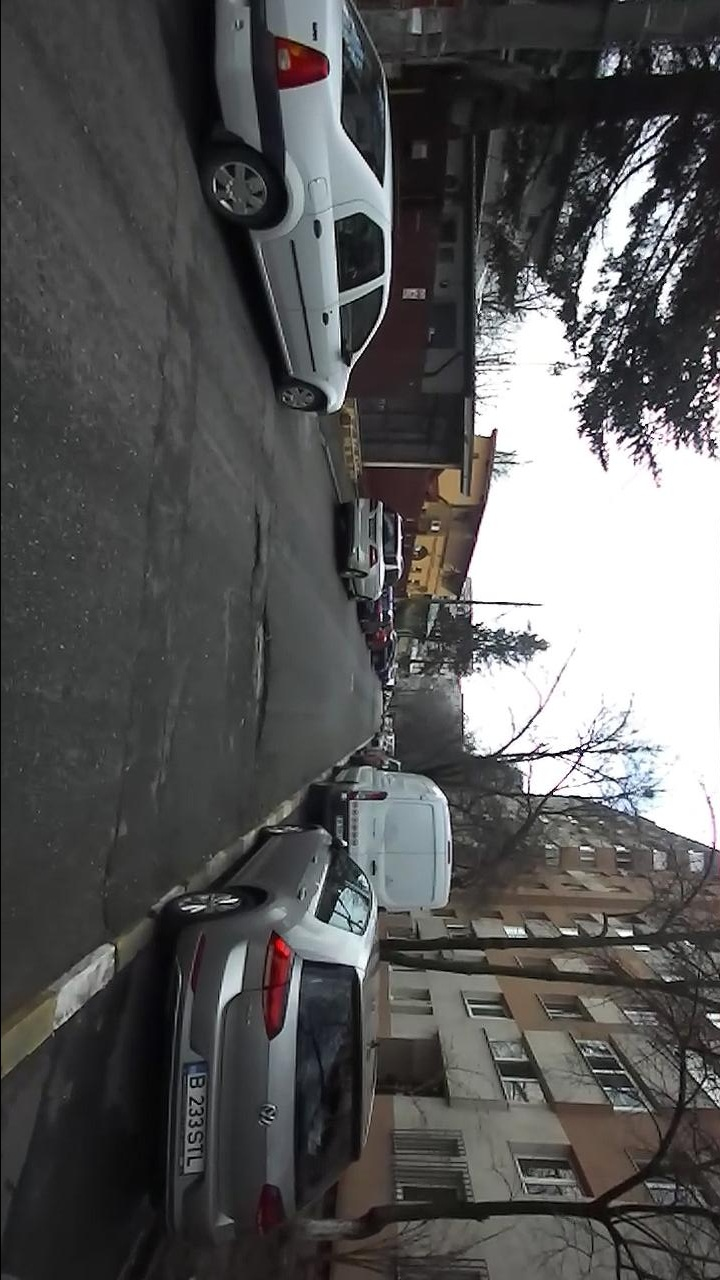pothole: (244, 600, 273, 756), (93, 805, 124, 930), (250, 503, 266, 579)
